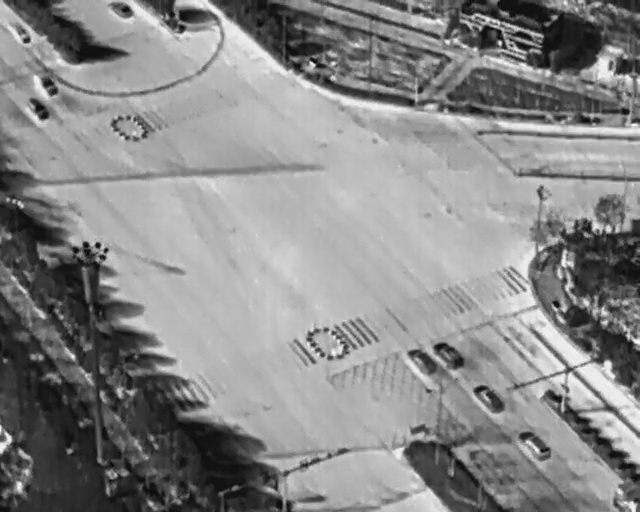Car: (471, 379, 509, 418), (517, 426, 555, 465), (430, 336, 466, 373), (407, 341, 440, 378), (29, 64, 62, 101), (24, 93, 53, 125), (5, 17, 34, 49), (111, 0, 132, 20)
